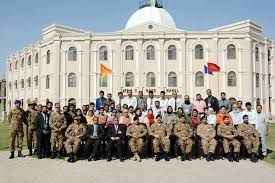uniform: (217, 121, 243, 163), (239, 121, 261, 163), (127, 122, 149, 161), (8, 107, 27, 152), (150, 121, 172, 157), (197, 121, 217, 157), (174, 120, 192, 159), (50, 112, 67, 152), (67, 123, 85, 159), (26, 108, 40, 150)
